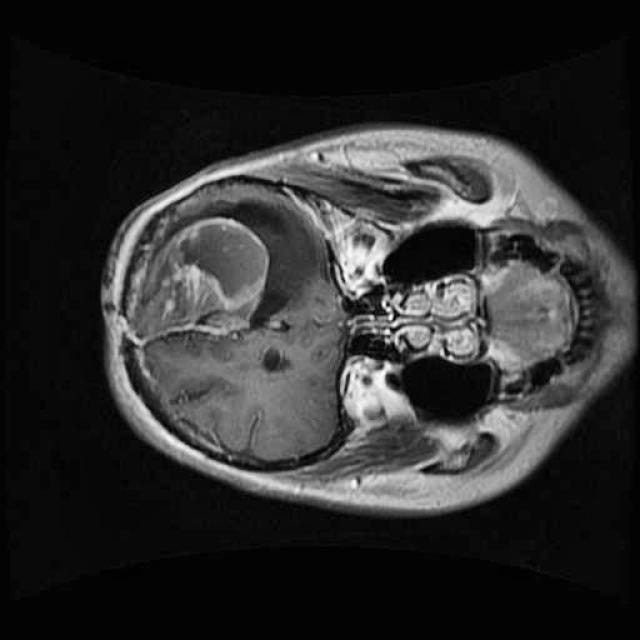Non-Tumor: (115, 184, 324, 351)
